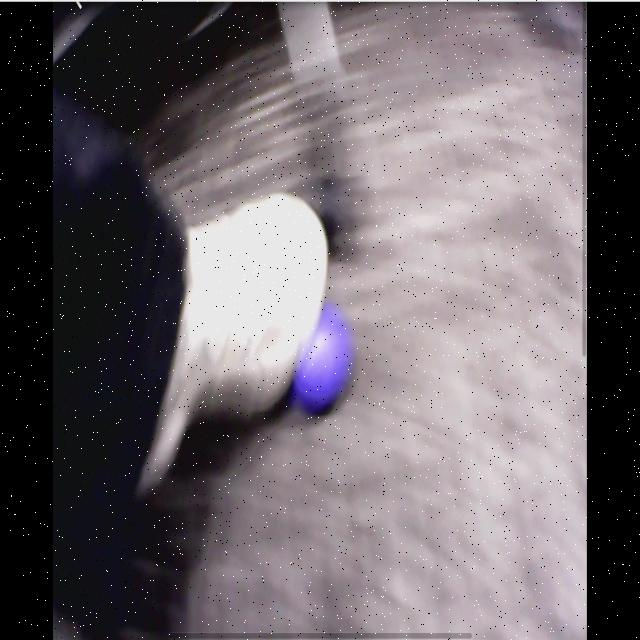ball: (294, 306, 352, 414)
